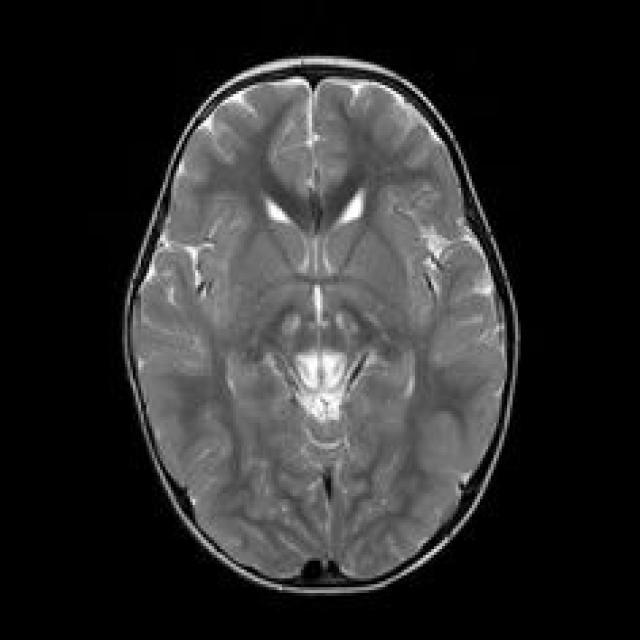No_Tumor: (124, 57, 518, 594)
